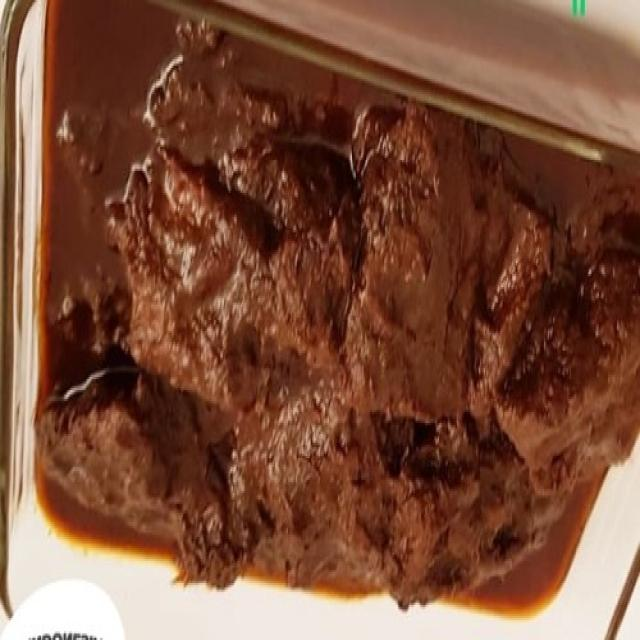rendang: (15, 0, 640, 618)
